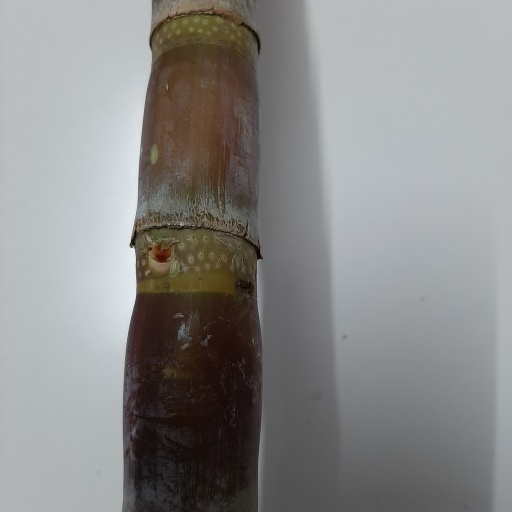Damage_Bud: (148, 238, 177, 271)
